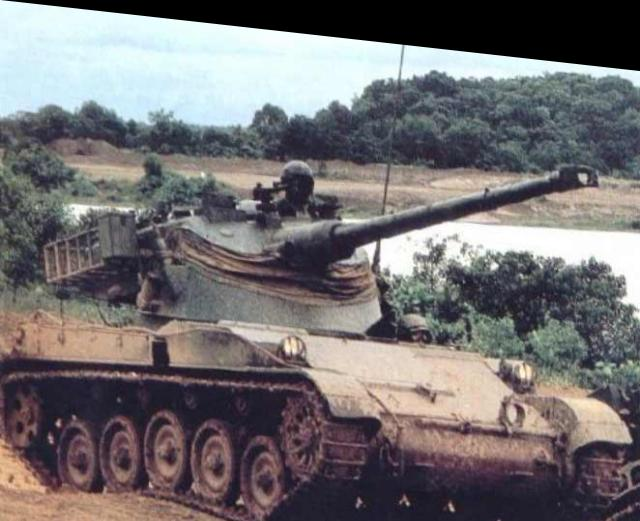other: (254, 147, 328, 221)
tank: (8, 118, 606, 520)
